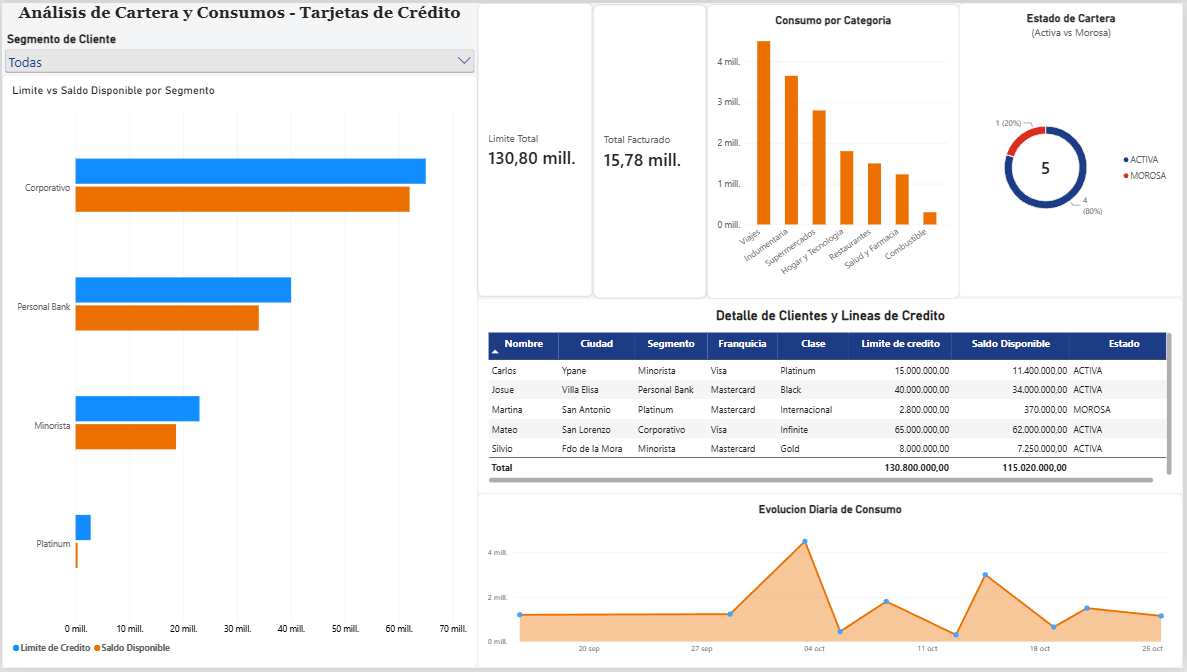

This screenshot's page, from the dashboard's own definition file:
{"tool":"powerbi","page":{"name":"Página 1","canvas":[1920,1080],"ordinal":0},"visuals":[{"type":"columnChart","title":"Consumo por Categoria","fields":{"Category":["itau_tarjetas_db transacciones.categoria"],"Y":["Sum(itau_tarjetas_db transacciones.monto)"]},"box":[1146.3,2.4,409.8,478],"z":0},{"type":"donutChart","title":"Estado de Cartera","fields":{"Category":["itau_tarjetas_db tarjetas.estado"],"Y":["CountNonNull(itau_tarjetas_db tarjetas.ID_tarjeta)"]},"box":[1556.1,0,363.4,478],"z":1000},{"type":"clusteredBarChart","title":"Limite vs Saldo Disponible por Segmento","fields":{"Category":["itau_tarjetas_db segmentos_itau.nombre_segmento"],"Y":["Sum(itau_tarjetas_db tarjetas.limite_credito)","Sum(itau_tarjetas_db tarjetas.saldo_disponible)"]},"box":[0,117.1,773.2,963.4],"z":2000},{"type":"tableEx","title":"Detalle de Clientes y Lineas de Credito","fields":{"Values":["itau_tarjetas_db clientes.nombre","itau_tarjetas_db clientes.ciudad","itau_tarjetas_db segmentos_itau.nombre_segmento","itau_tarjetas_db tarjetas.franquicia","itau_tarjetas_db tarjetas.clase","Sum(itau_tarjetas_db tarjetas.limite_credito)","Sum(itau_tarjetas_db tarjetas.saldo_disponible)","itau_tarjetas_db tarjetas.estado"]},"box":[773.2,480.5,1146.3,317.1],"z":3000},{"type":"cardVisual","fields":{"Data":["Sum(itau_tarjetas_db tarjetas.limite_credito)"]},"box":[773.2,0,187.8,478],"z":4000},{"type":"cardVisual","fields":{"Data":["Sum(itau_tarjetas_db transacciones.monto)"]},"box":[961,2.4,185.4,478],"z":5000},{"type":"slicer","fields":{"Values":["itau_tarjetas_db segmentos_itau.nombre_segmento"]},"box":[0,46.3,773.2,139],"z":6000},{"type":"textbox","box":[0,0,773.2,92.7],"z":7000},{"type":"lineChart","title":"Evolucion Diaria de Consumo","fields":{"Category":["itau_tarjetas_db transacciones.fecha_transaccion"],"Y":["Sum(itau_tarjetas_db transacciones.monto)"]},"box":[773.2,797.6,1146,283],"z":8000}]}

Visuals, with their boxes in screenshot pixels (x1, y1, x2, y2), scaled from the page's 1920x1080 canvas onto the 1187x672 screenshot:
"Consumo por Categoria" columnChart: (x1=709, y1=1, x2=962, y2=299)
"Estado de Cartera" donutChart: (x1=962, y1=0, x2=1186, y2=297)
"Limite vs Saldo Disponible por Segmento" clusteredBarChart: (x1=0, y1=73, x2=478, y2=671)
"Detalle de Clientes y Lineas de Credito" tableEx: (x1=478, y1=299, x2=1186, y2=496)
cardVisual - Sum(itau_tarjetas_db tarjetas.limite_credito): (x1=478, y1=0, x2=594, y2=297)
cardVisual - Sum(itau_tarjetas_db transacciones.monto): (x1=594, y1=1, x2=709, y2=299)
slicer - itau_tarjetas_db segmentos_itau.nombre_segmento: (x1=0, y1=29, x2=478, y2=115)
textbox: (x1=0, y1=0, x2=478, y2=58)
"Evolucion Diaria de Consumo" lineChart: (x1=478, y1=496, x2=1186, y2=671)
